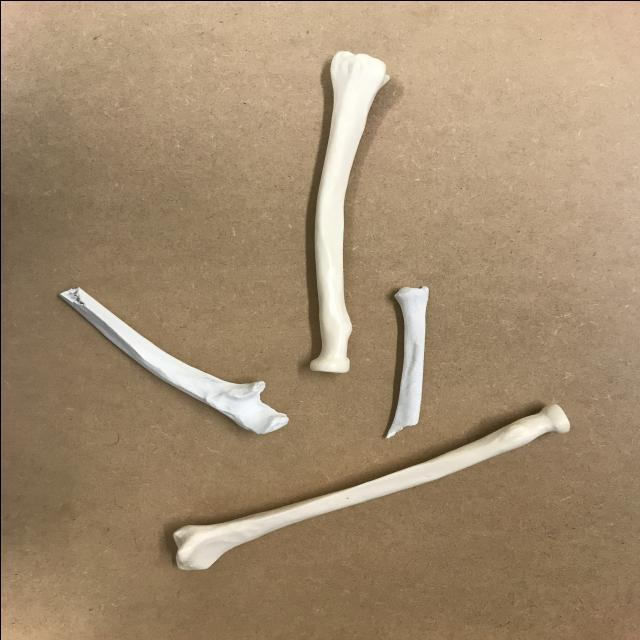bone: (164, 398, 574, 574), (52, 286, 296, 438), (304, 43, 402, 377), (378, 280, 441, 437)
